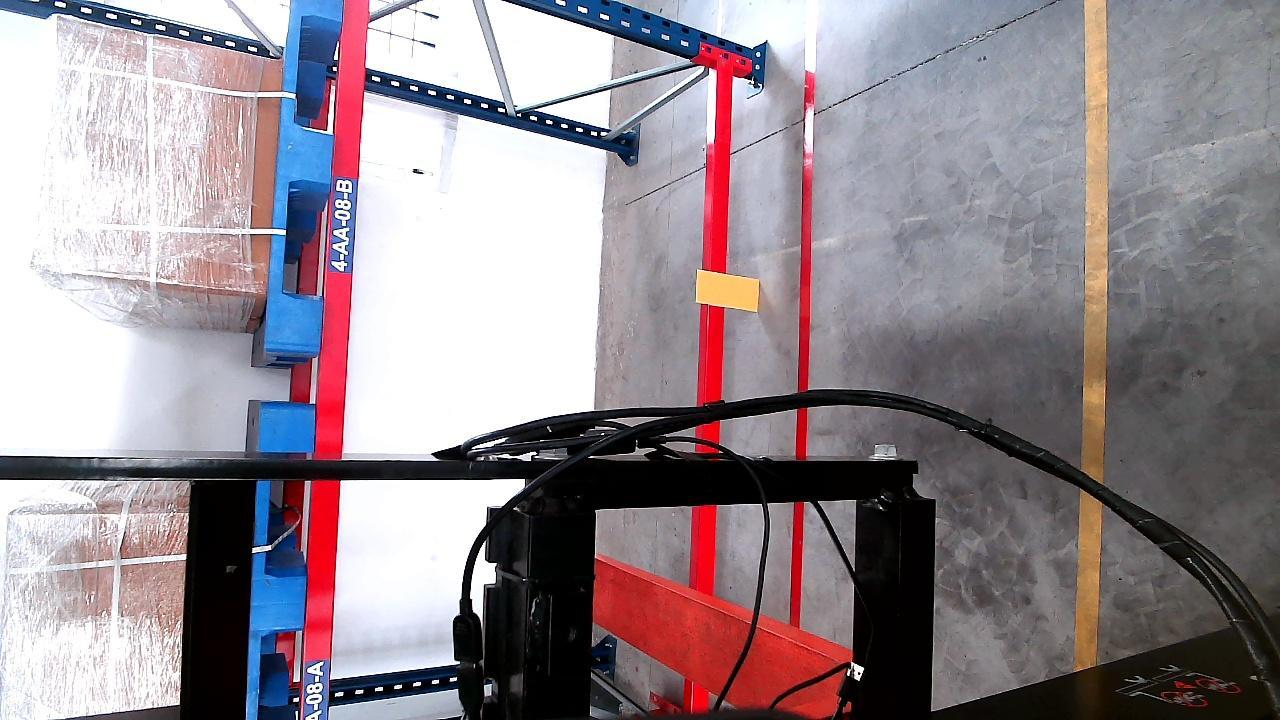red_line: (790, 0, 816, 626)
yellow_line: (1079, 3, 1112, 673)
